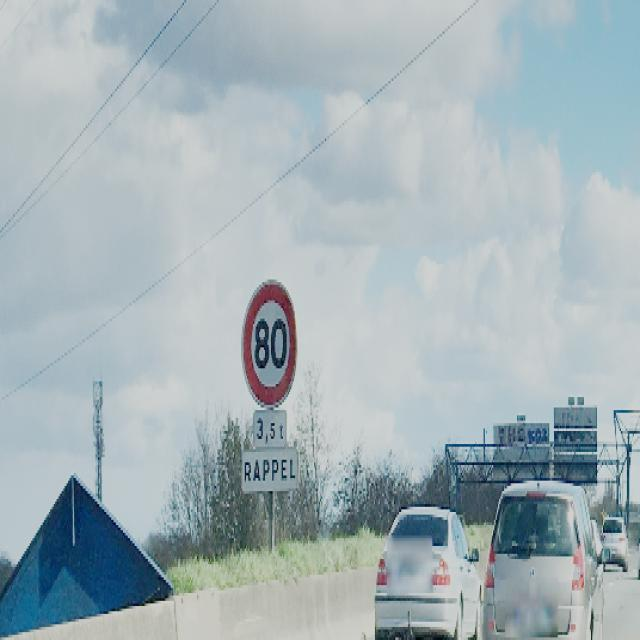speed_80: (242, 276, 298, 410)
